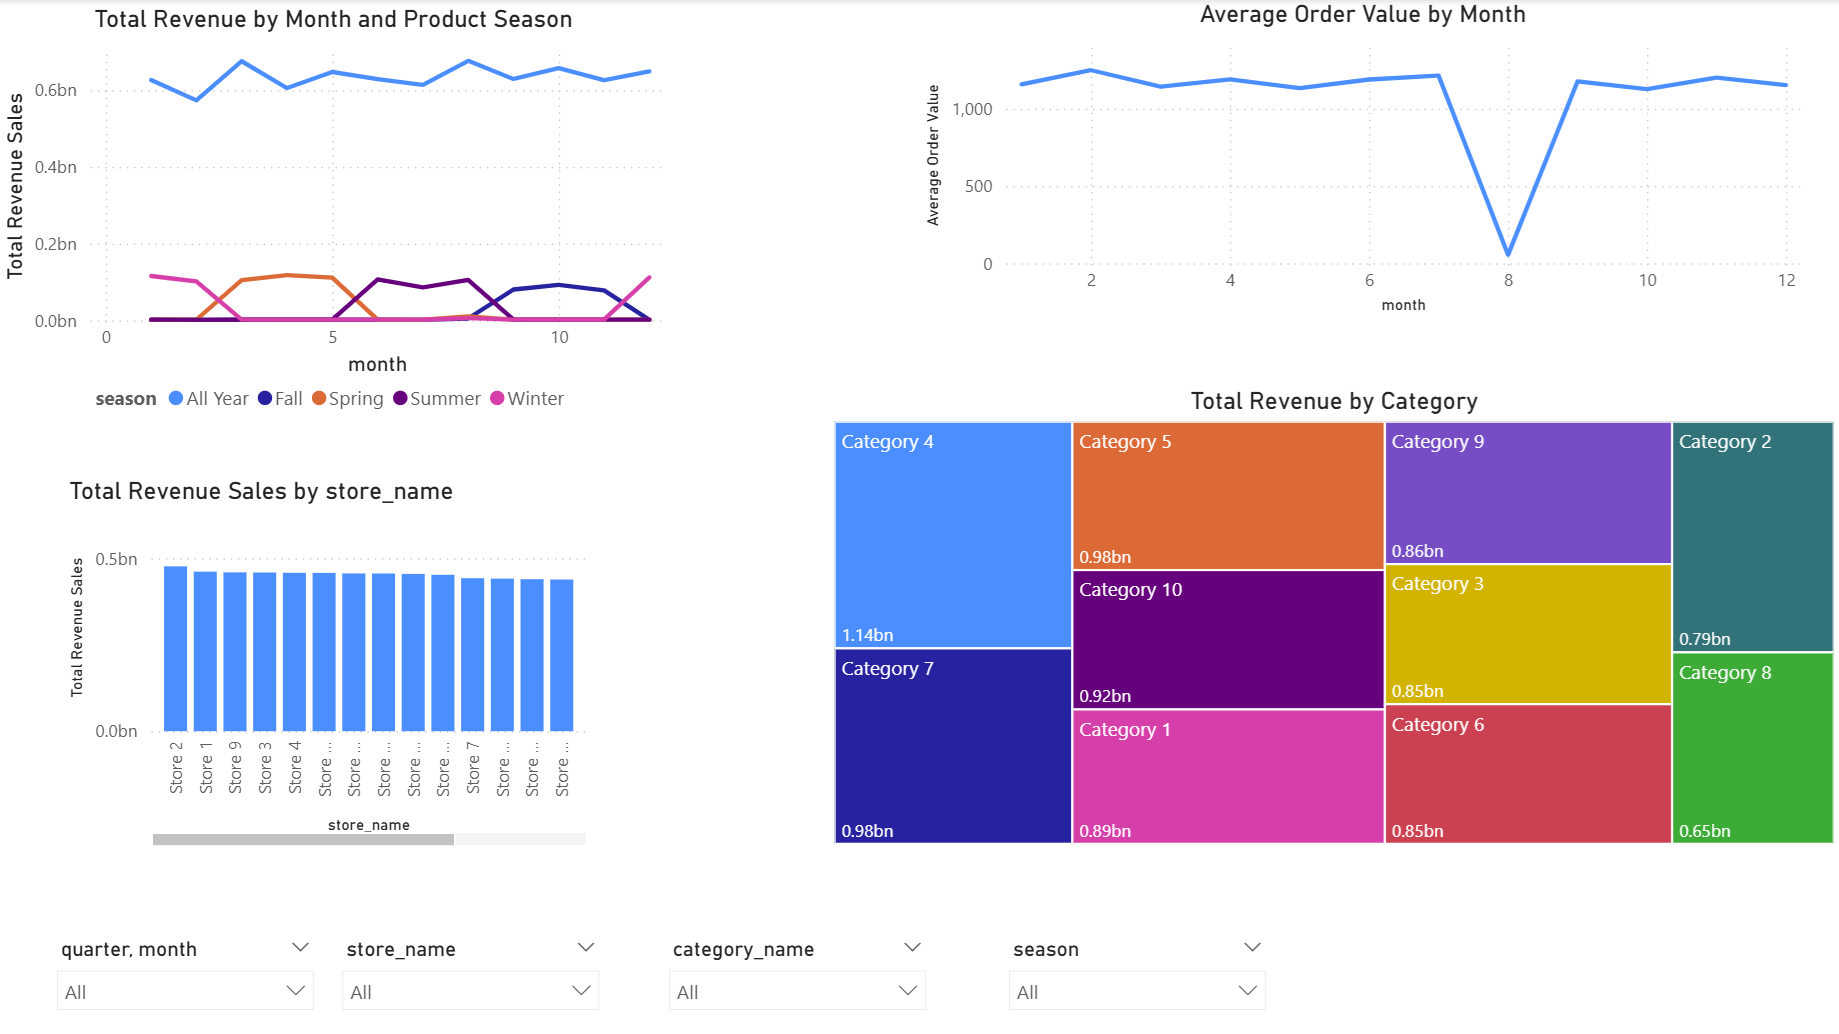

The dashboard page shown, as its layout file describes it:
{"tool":"powerbi","page":{"name":"Sales Dashboard","canvas":[1280,720],"ordinal":1},"visuals":[{"type":"slicer","fields":{"Values":["pos_delivery_data dim_sales_date.quarter","pos_delivery_data dim_sales_date.month"]},"box":[32.1,646.1,198.3,74.4],"z":0},{"type":"slicer","fields":{"Values":["pos_delivery_data dim_stores.store_name"]},"box":[230.4,646.1,198.3,74.4],"z":1000},{"type":"slicer","fields":{"Values":["pos_delivery_data dim_products.category_name"]},"box":[456.5,646.1,198.3,58.3],"z":2000},{"type":"slicer","fields":{"Values":["pos_delivery_data dim_products.season"]},"box":[692.7,646.1,198.3,74.4],"z":3000},{"type":"lineChart","title":"Total Revenue by Month and Product Season","fields":{"Category":["pos_delivery_data dim_sales_date.month"],"Y":["pos_delivery_data fact_sales_items.Total Revenue Sales"],"Series":["pos_delivery_data dim_products.season"]},"box":[0,3.1,468.6,292.5],"z":4000},{"type":"treemap","title":"Total Revenue by Category","fields":{"Group":["pos_delivery_data dim_products.category_name"],"Values":["pos_delivery_data fact_sales_items.Total Revenue Sales"]},"box":[576.8,268.8,703.5,322.4],"z":5000},{"type":"lineChart","title":"Average Order Value by Month","fields":{"Y":["pos_delivery_data fact_sales_items.Average Order Value"],"Category":["pos_delivery_data dim_sales_date.month"]},"box":[640.2,0,617.3,223.3],"z":6000},{"type":"columnChart","fields":{"Y":["pos_delivery_data fact_sales_items.Total Revenue Sales"],"Category":["pos_delivery_data dim_stores.store_name"]},"box":[45.8,331,368.8,261.1],"z":7000}]}

Visuals, with their boxes in screenshot pixels (x1, y1, x2, y2), scaled from the page's 1280x720 canvas onto the 1839x1034 screenshot:
slicer - pos_delivery_data dim_sales_date.quarter x pos_delivery_data dim_sales_date.month: pyautogui.locateOnScreen(46, 928, 331, 1033)
slicer - pos_delivery_data dim_stores.store_name: pyautogui.locateOnScreen(331, 928, 616, 1033)
slicer - pos_delivery_data dim_products.category_name: pyautogui.locateOnScreen(656, 928, 941, 1012)
slicer - pos_delivery_data dim_products.season: pyautogui.locateOnScreen(995, 928, 1280, 1033)
"Total Revenue by Month and Product Season" lineChart: pyautogui.locateOnScreen(0, 4, 673, 425)
"Total Revenue by Category" treemap: pyautogui.locateOnScreen(829, 386, 1838, 849)
"Average Order Value by Month" lineChart: pyautogui.locateOnScreen(920, 0, 1807, 321)
columnChart - pos_delivery_data fact_sales_items.Total Revenue Sales x pos_delivery_data dim_stores.store_name: pyautogui.locateOnScreen(66, 475, 596, 850)
